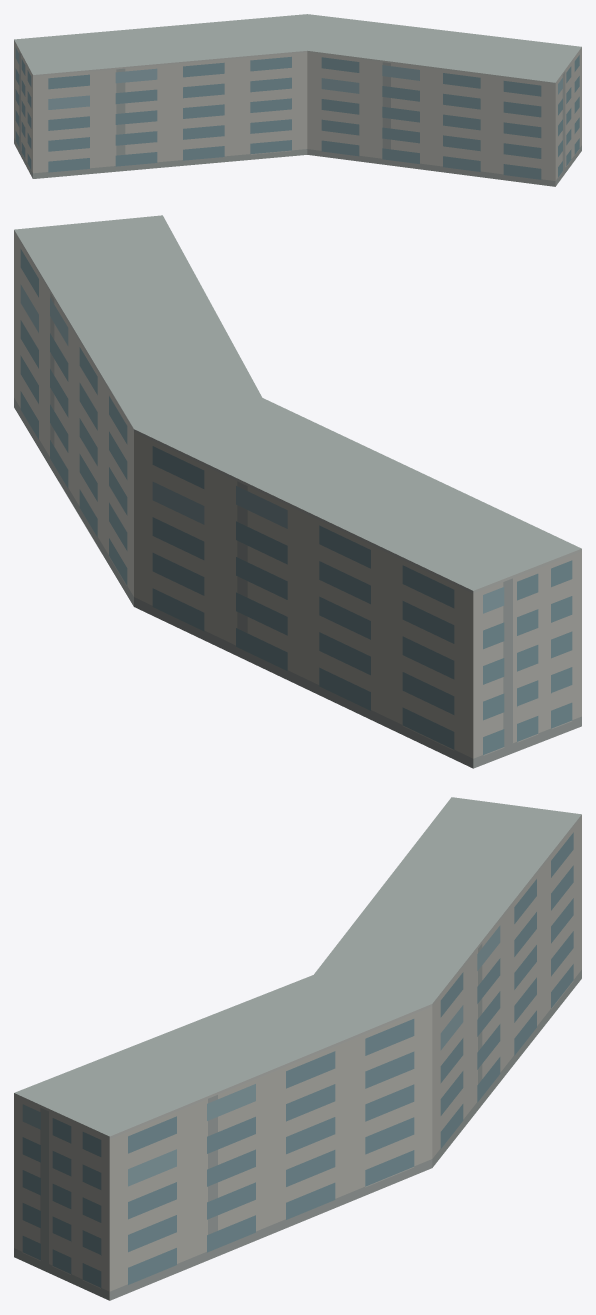
File: survey-upis-32782670.glb
The picture shows the model from 3 angles, top to bottom: view 1: azimuth 30°, elevation 25°; view 2: azimuth 150°, elevation 25°; view 3: azimuth 270°, elevation 25°; orthographic projection. The views are drawn at different scales.
Parts seen in each view (by area): view 1: survey-upis-32782670.tmp; view 2: survey-upis-32782670.tmp; view 3: survey-upis-32782670.tmp.
Boxes of the visible parts, <box> form: survey-upis-32782670.tmp: <box>14,14,581,186</box>; survey-upis-32782670.tmp: <box>14,215,581,768</box>; survey-upis-32782670.tmp: <box>14,797,581,1300</box>.
Bounding box in the file's own units: 67.6 × 15.25 × 47.79.
